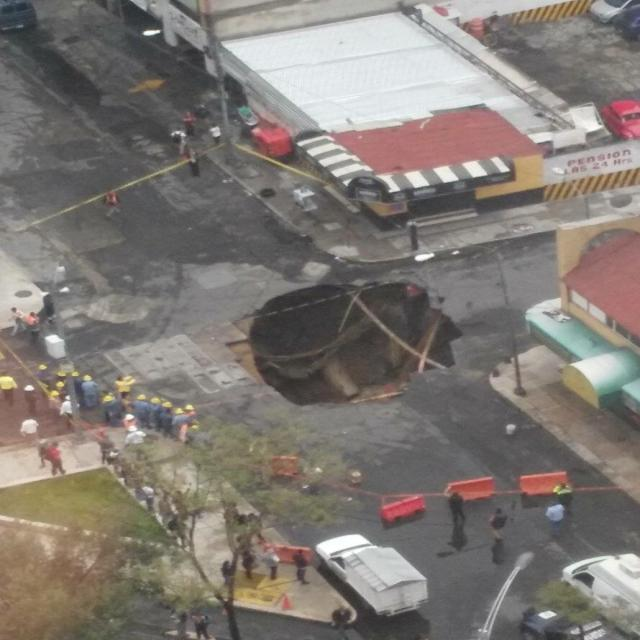pothole: (222, 266, 507, 428)
